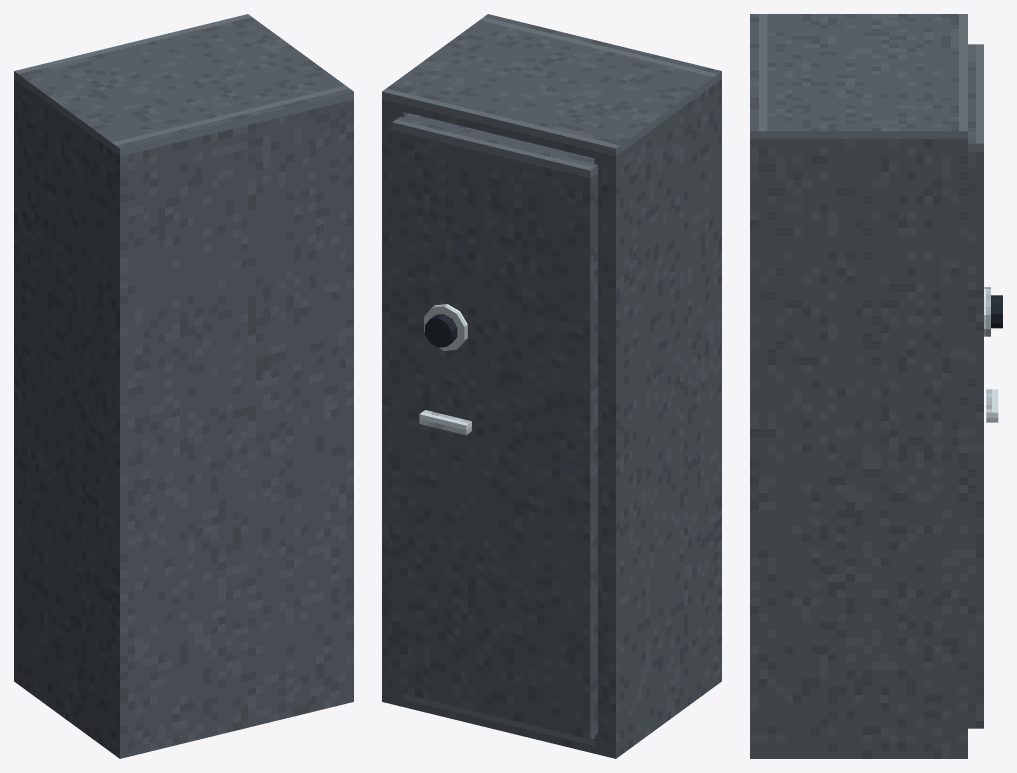
The model's file is f_gunsafe_c.glb.
The picture shows the model from 3 angles, left to right: view 1: azimuth 30°, elevation 25°; view 2: azimuth 150°, elevation 25°; view 3: azimuth 270°, elevation 25°; orthographic projection. The views are drawn at different scales.
Parts seen in each view (by area): view 1: block_back, block_side--0.29500000000000004, block_shelf-1, block_side-0.29500000000000004; view 2: block_armored-door, block_side--0.29500000000000004, block_shelf-1, block_side-0.29500000000000004, block_back, block_shelf-0, block_combination-dial, block_numbered-dial-ring, block_handle; view 3: block_side-0.29500000000000004, block_shelf-1, block_back, block_armored-door, block_side--0.29500000000000004, block_handle.
Boxes of the visible parts, x1,y1,x2,y2 form: block_back: (111,85,353,758); block_side--0.29500000000000004: (14,66,132,752); block_shelf-1: (36,19,323,137); block_side-0.29500000000000004: (226,14,345,90); block_armored-door: (392,113,597,739); block_side--0.29500000000000004: (594,72,713,758); block_shelf-1: (403,25,691,158); block_side-0.29500000000000004: (382,20,500,706); block_back: (480,14,721,686); block_shelf-0: (403,694,594,753); block_combination-dial: (425,314,457,347); block_numbered-dial-ring: (424,304,467,350); block_handle: (419,410,471,435); block_side-0.29500000000000004: (767,120,967,758); block_shelf-1: (767,25,967,120); block_back: (750,14,767,758); block_armored-door: (968,44,983,728); block_side--0.29500000000000004: (767,14,967,24); block_handle: (986,389,998,422).
Size of the model in its own units: 0.65 by 1.62 by 0.5915.
Materials: 1 (1 with a texture image).
